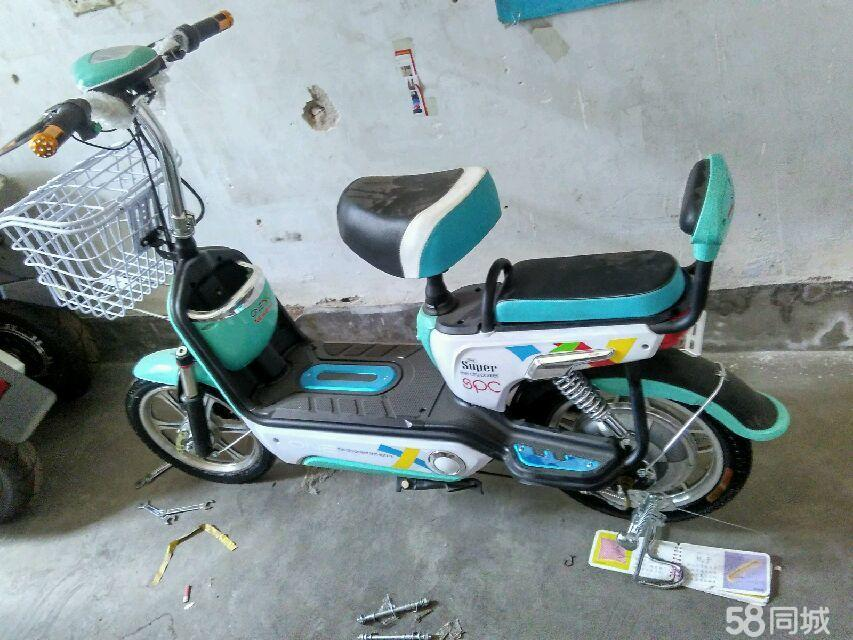电动车: (1, 12, 829, 553)
